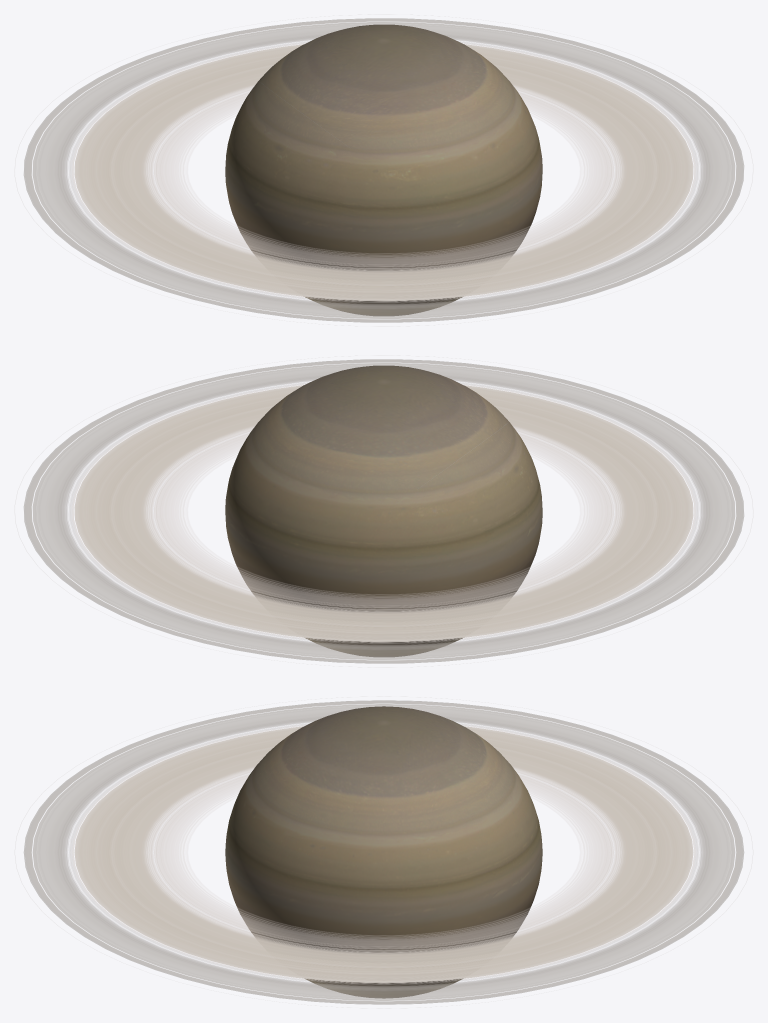
File: saturn.glb
3 views of the same model, one above another, from view 1: azimuth 30°, elevation 25°; view 2: azimuth 150°, elevation 25°; view 3: azimuth 270°, elevation 25° (orthographic).
Visible parts, largest first — view 1: RingsTop_1, Saturn.001_0; view 2: RingsTop_1, Saturn.001_0; view 3: RingsTop_1, Saturn.001_0.
Part boxes in pixels (left/top/right/bottom): RingsTop_1: left=23, top=18, right=744, bottom=322; Saturn.001_0: left=225, top=24, right=542, bottom=315; RingsTop_1: left=23, top=359, right=744, bottom=663; Saturn.001_0: left=225, top=365, right=542, bottom=656; RingsTop_1: left=23, top=700, right=744, bottom=1004; Saturn.001_0: left=225, top=706, right=542, bottom=998.
Bounding box in the file's own units: 3.93 × 1.52 × 3.93.
Materials: 2 (2 with a texture image).
